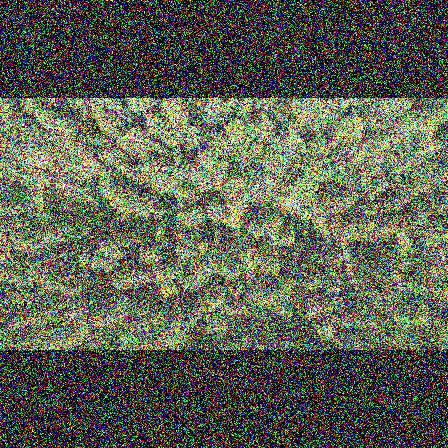Sick: (386, 251, 413, 276), (385, 277, 413, 301)
